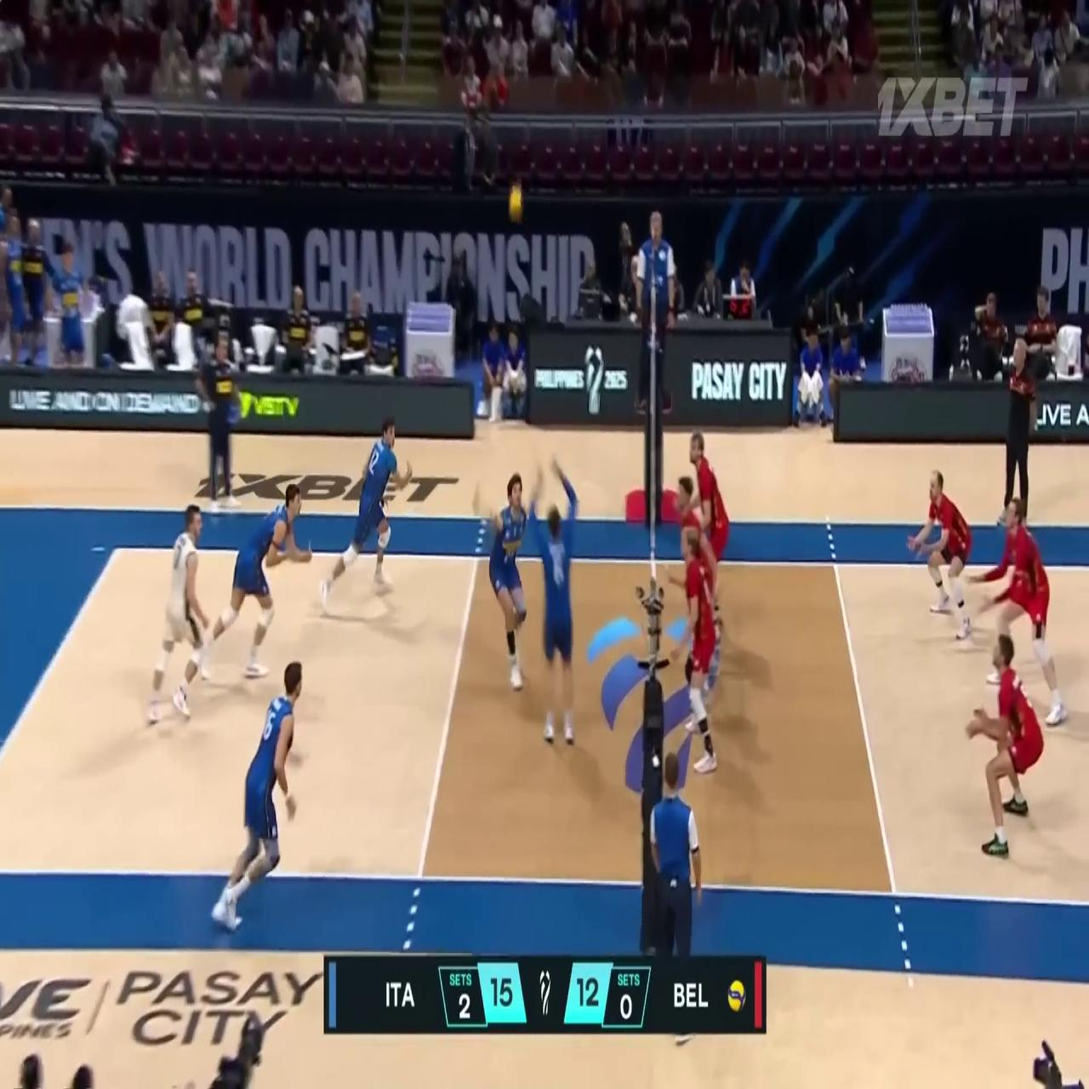ball: (508, 184, 523, 220)
